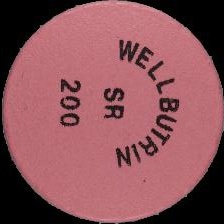0173-0722: (0, 0, 224, 224)
